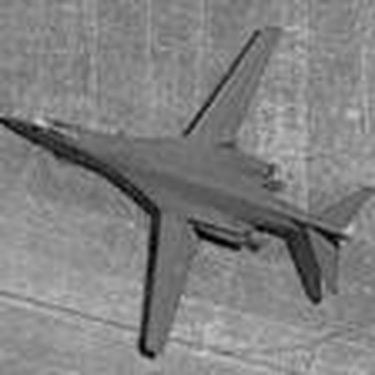airplane: (5, 17, 370, 359)
